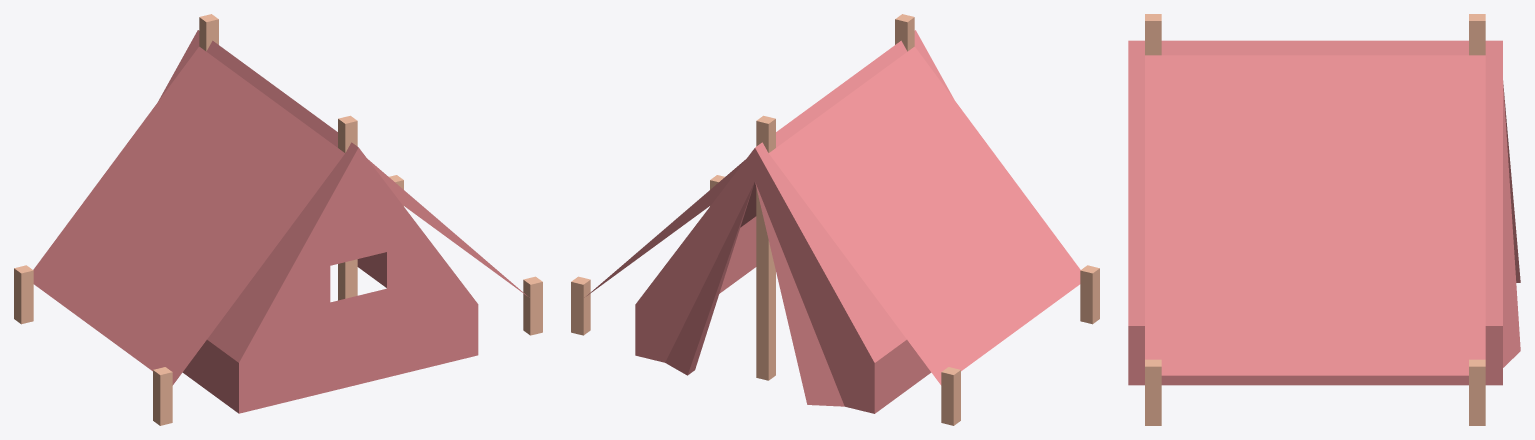
File: tent_detailedOpen.glb
3 views of the same model, side by side, from view 1: azimuth 30°, elevation 25°; view 2: azimuth 150°, elevation 25°; view 3: azimuth 270°, elevation 25° (orthographic). The views are drawn at different scales.
Visible parts, largest first — view 1: tent_detailedOpen; view 2: tent_detailedOpen; view 3: tent_detailedOpen.
Part boxes in pixels (<box>): tent_detailedOpen: <box>14,14,542,425</box>; tent_detailedOpen: <box>571,14,1099,425</box>; tent_detailedOpen: <box>1128,14,1520,425</box>.
Size of the model in its own units: 0.8749 by 0.5611 by 0.6664.
Materials: 1 (1 with a texture image).
